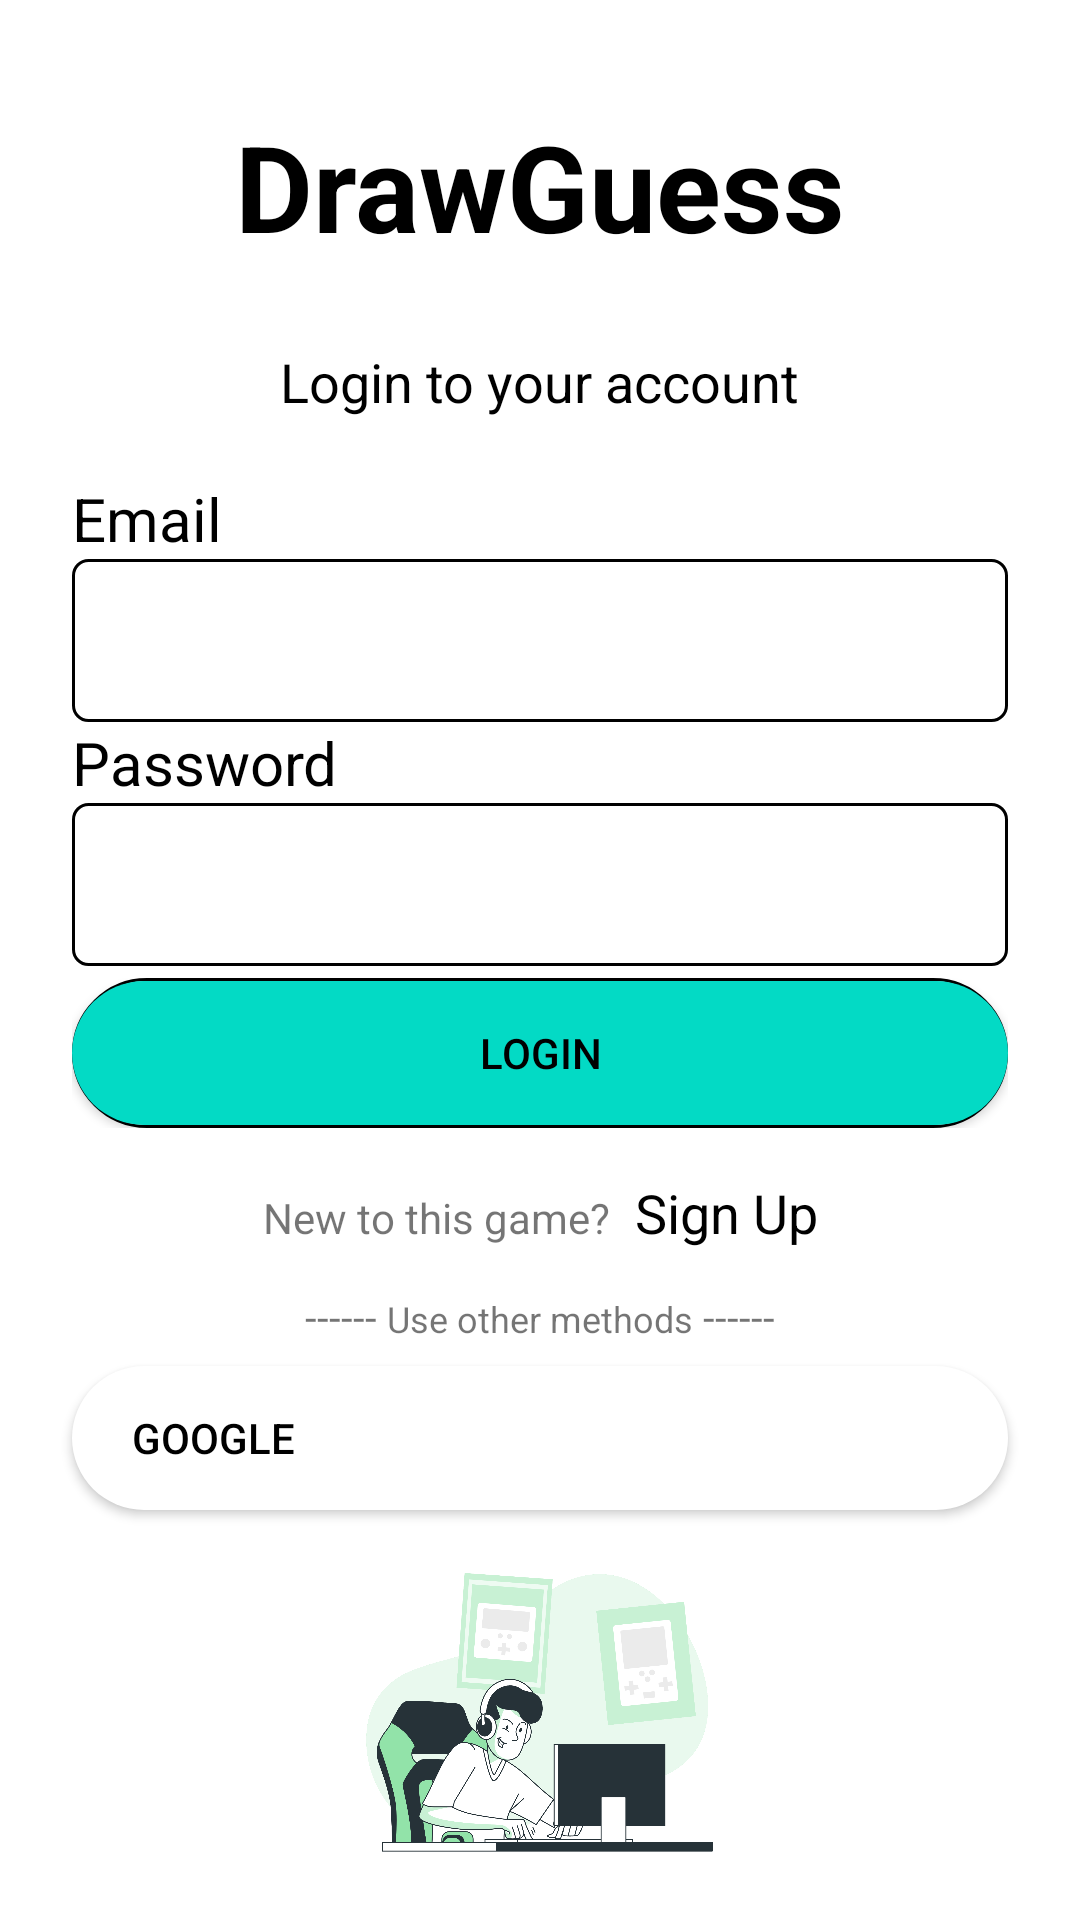

Named icons in this screenshot (1080 x 1920) and their centers, (x,y):
gaming bro: (539,1712)
